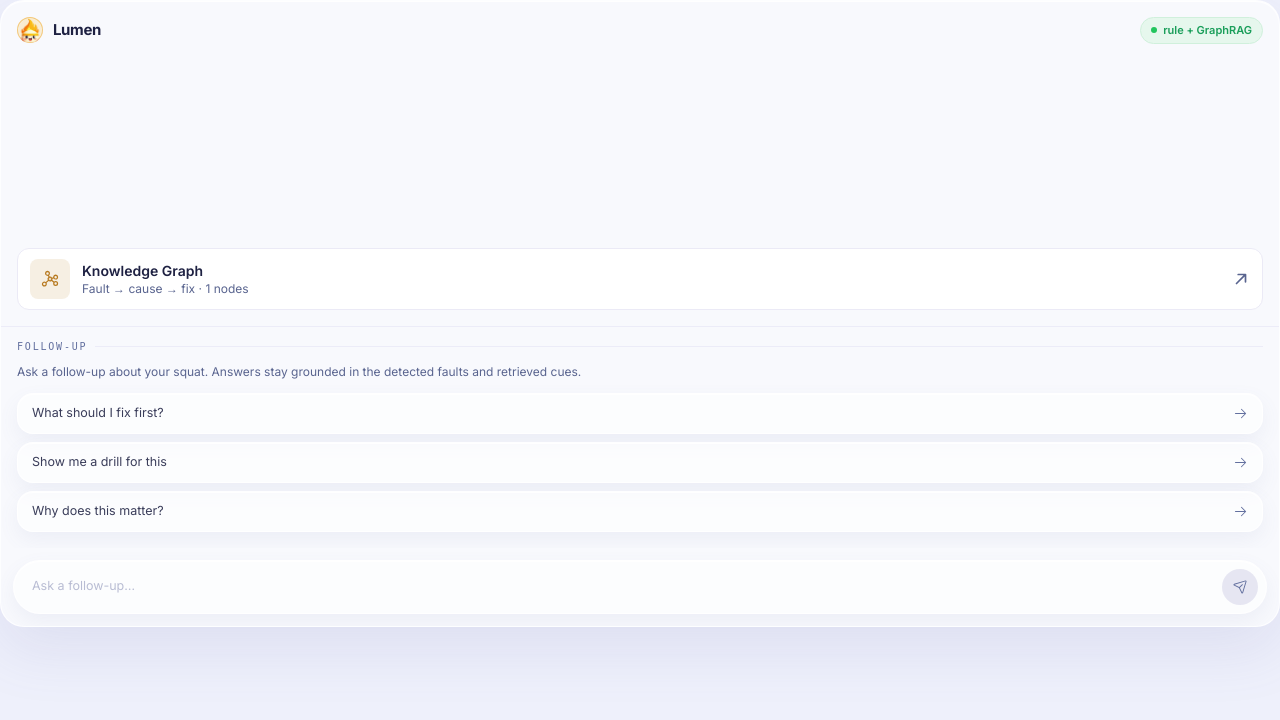
Scenario: CoachTray — follow-up chat › does not persist when a turn fails mid-stream
Type "why?" into the field with placeholder "Ask a follow-up…" at (618, 586), box [22,577,1214,596]
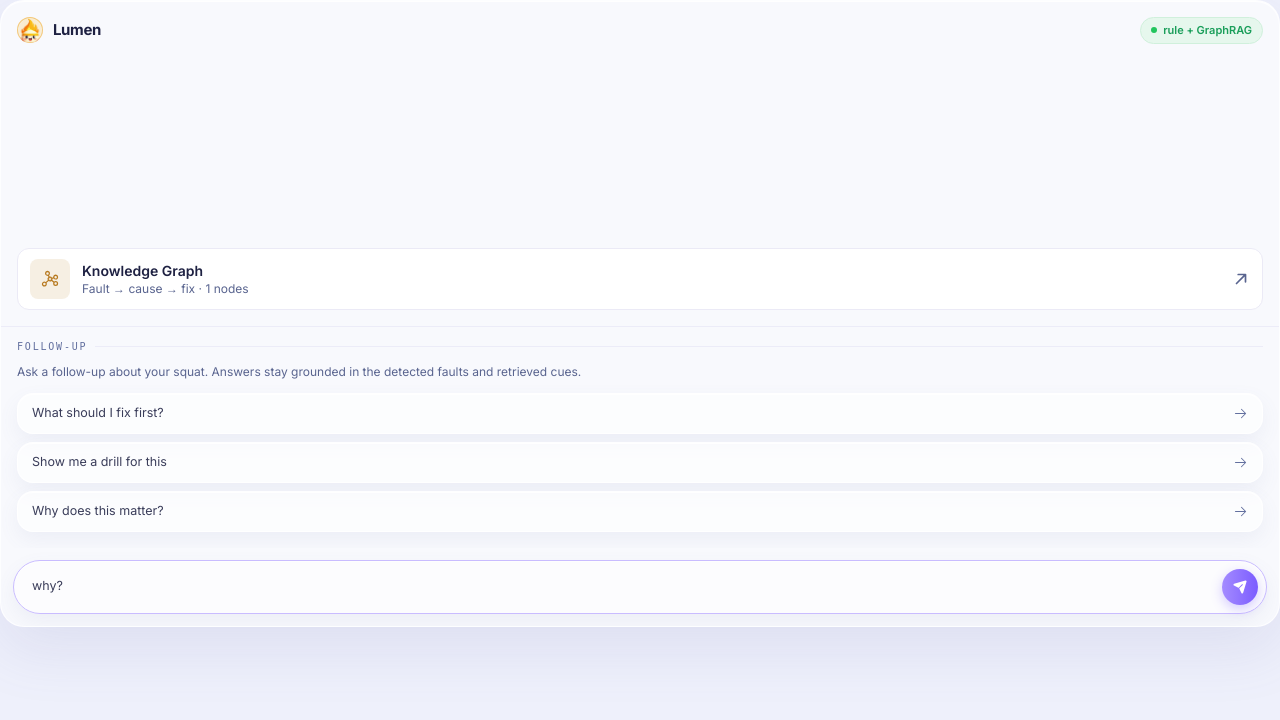
Press Enter
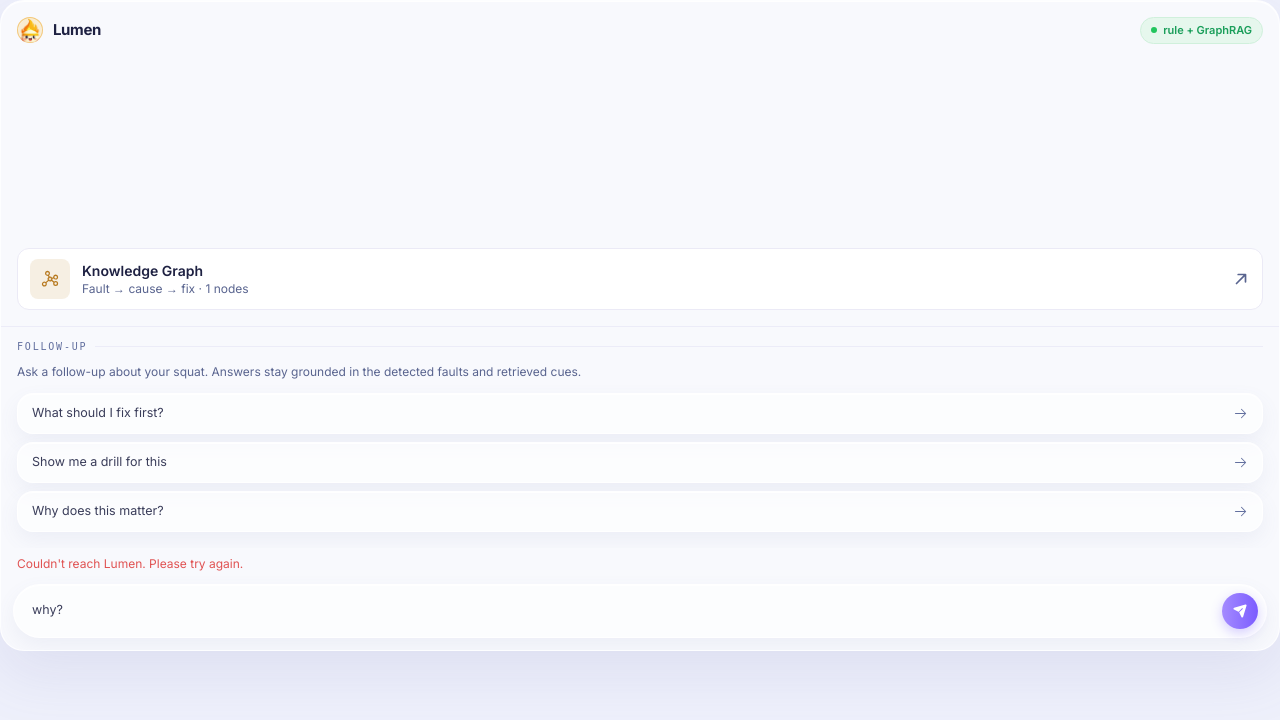
Check: the message "Couldn't reach Lumen. Please try again." is shown, box [17,556,243,570]
